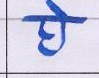e_matra: (45, 1, 69, 17)
